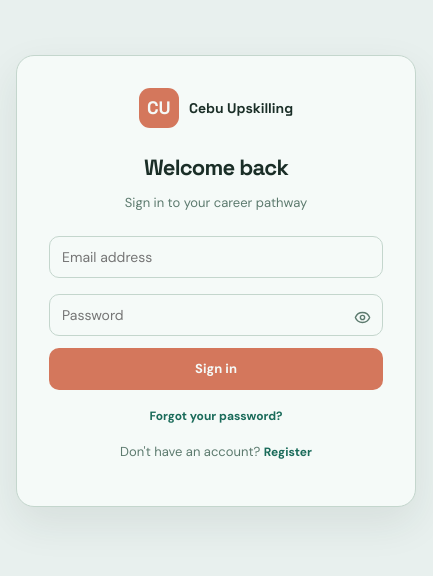
Test case: LoginPage › shows an error message and does not redirect when login returns 401
Type "jose@example.com" into the field with placeholder "Email address" at (216, 257), box [49,236,383,278]
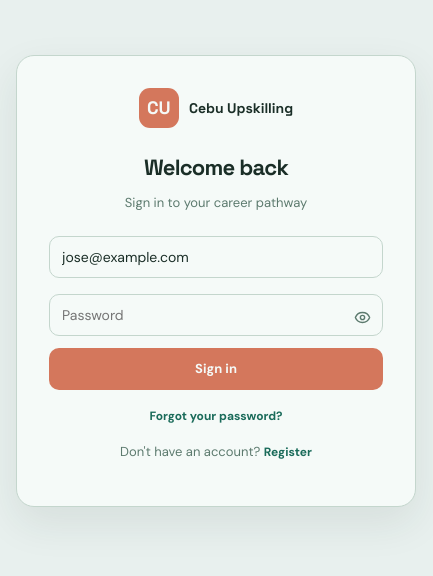
Type "wrong123" into the password field with placeholder "Password" at (216, 315), box [49,294,383,336]
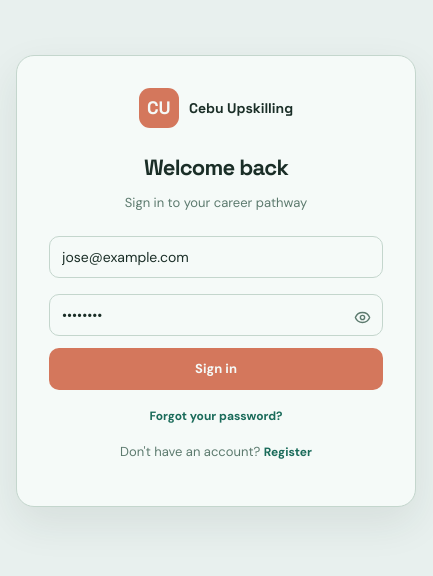
Click the button "Sign in" at (216, 369), box [49,348,383,390]
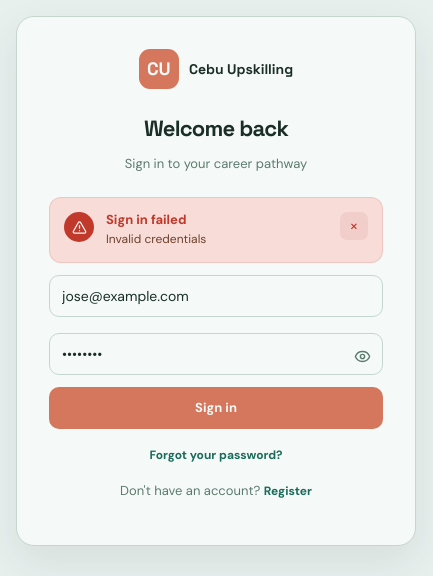
Check: the heading "Welcome back" is shown, box [144,114,288,142]
Check: the text "Invalid credentials" is shown, box [106,231,206,247]
